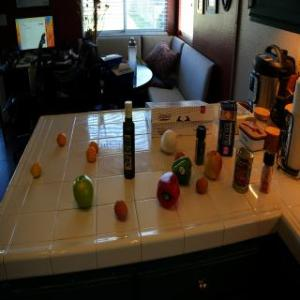bell_pepper: (158, 174, 182, 208), (174, 158, 192, 186)
egg: (114, 200, 132, 224), (195, 177, 209, 195), (173, 152, 185, 163)
onion: (159, 129, 178, 153)
